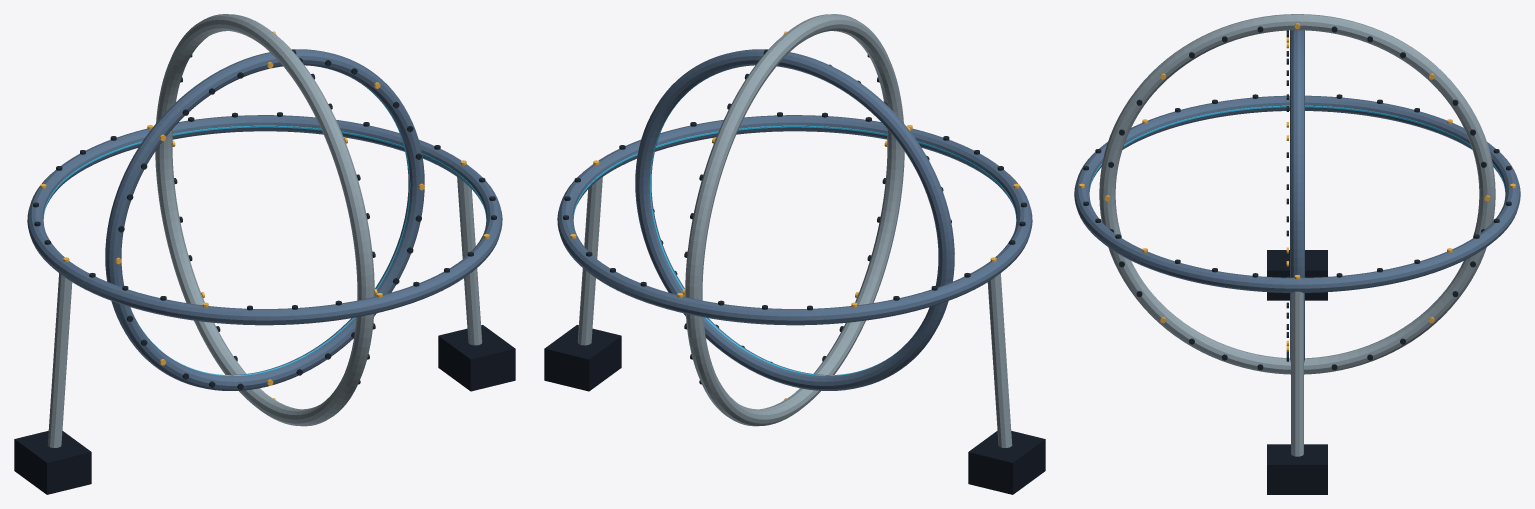
File: 02_L84_ThreeAxisSpacecraftTestRig.fbx
3 views of the same model, side by side, from view 1: azimuth 30°, elevation 25°; view 2: azimuth 150°, elevation 25°; view 3: azimuth 270°, elevation 25° (orthographic). The views are drawn at different scales.
Visible parts, largest first — view 1: L84_ThreeAxisSpacecraftTestRig_Part_0000, L84_ThreeAxisSpacecraftTestRig_Part_0005, L84_ThreeAxisSpacecraftTestRig_Part_0010, L84_ThreeAxisSpacecraftTestRig, L84_ThreeAxisSpacecraftTestRig_Part_0001, L84_ThreeAxisSpacecraftTestRig_Part_0011; view 2: L84_ThreeAxisSpacecraftTestRig_Part_0000, L84_ThreeAxisSpacecraftTestRig_Part_0005, L84_ThreeAxisSpacecraftTestRig_Part_0010, L84_ThreeAxisSpacecraftTestRig, L84_ThreeAxisSpacecraftTestRig_Part_0001, L84_ThreeAxisSpacecraftTestRig_Part_0011; view 3: L84_ThreeAxisSpacecraftTestRig_Part_0005, L84_ThreeAxisSpacecraftTestRig_Part_0000, L84_ThreeAxisSpacecraftTestRig, L84_ThreeAxisSpacecraftTestRig_Part_0010, L84_ThreeAxisSpacecraftTestRig_Part_0001.
Boxes of the visible parts, <box> form: L84_ThreeAxisSpacecraftTestRig_Part_0000: <box>27,115,502,325</box>; L84_ThreeAxisSpacecraftTestRig_Part_0005: <box>155,14,374,426</box>; L84_ThreeAxisSpacecraftTestRig_Part_0010: <box>105,49,424,390</box>; L84_ThreeAxisSpacecraftTestRig: <box>14,177,515,494</box>; L84_ThreeAxisSpacecraftTestRig_Part_0001: <box>43,125,486,230</box>; L84_ThreeAxisSpacecraftTestRig_Part_0011: <box>137,66,410,375</box>; L84_ThreeAxisSpacecraftTestRig_Part_0000: <box>557,115,1032,325</box>; L84_ThreeAxisSpacecraftTestRig_Part_0005: <box>685,14,904,426</box>; L84_ThreeAxisSpacecraftTestRig_Part_0010: <box>635,49,954,390</box>; L84_ThreeAxisSpacecraftTestRig: <box>544,177,1045,494</box>; L84_ThreeAxisSpacecraftTestRig_Part_0001: <box>573,125,1016,230</box>; L84_ThreeAxisSpacecraftTestRig_Part_0011: <box>649,66,922,375</box>; L84_ThreeAxisSpacecraftTestRig_Part_0005: <box>1099,14,1495,374</box>; L84_ThreeAxisSpacecraftTestRig_Part_0000: <box>1074,95,1520,292</box>; L84_ThreeAxisSpacecraftTestRig: <box>1267,250,1327,494</box>; L84_ThreeAxisSpacecraftTestRig_Part_0010: <box>1290,30,1304,362</box>; L84_ThreeAxisSpacecraftTestRig_Part_0001: <box>1089,105,1505,203</box>.
Size of the model in its own units: 995 by 806 by 874.
